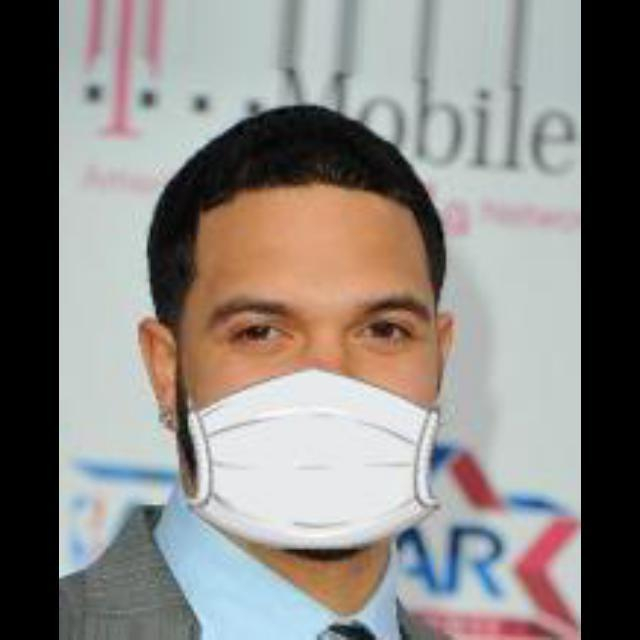suspicion: (104, 126, 492, 554)
